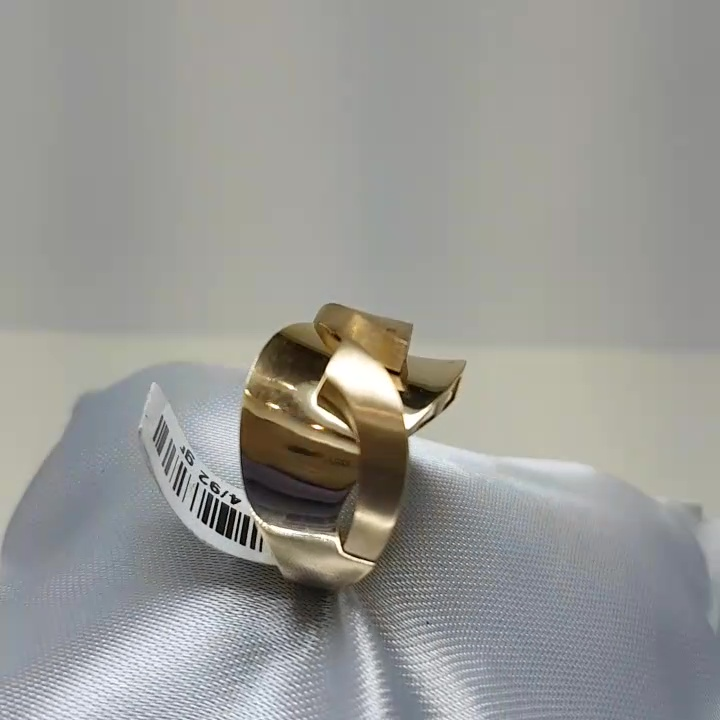Ring 4: (180, 293, 482, 608)
